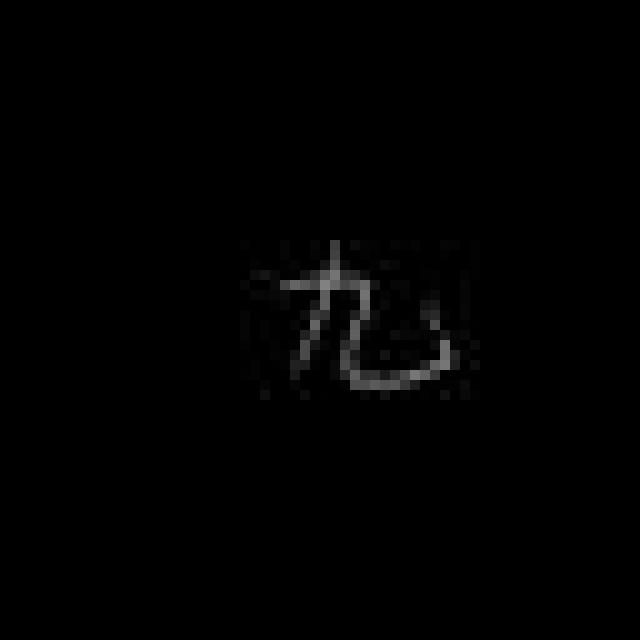9 -nine-: (273, 235, 456, 395)
